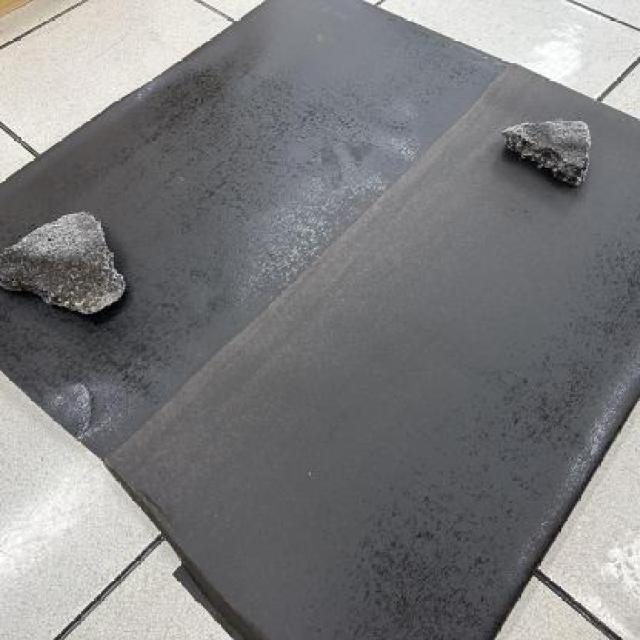Road Debris: (5, 254, 124, 320), (503, 129, 591, 194)
